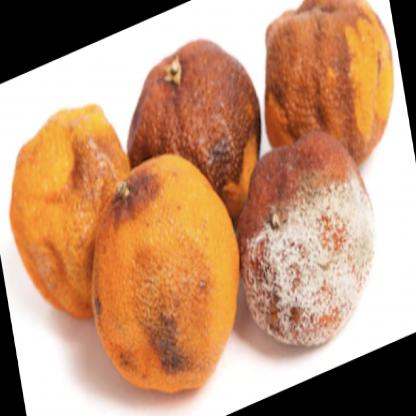rotten_orange: (94, 142, 239, 401), (5, 86, 130, 328), (240, 134, 377, 348), (128, 25, 262, 197), (261, 1, 395, 161)
